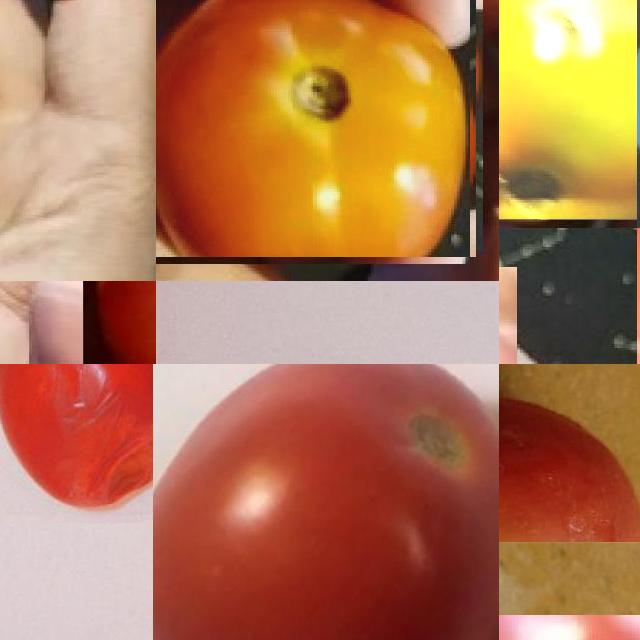0: (153, 364, 499, 640)
1: (0, 364, 153, 514)
Fresh Tomato: (156, 0, 476, 257), (499, 364, 640, 542)
Rotten Tomato: (499, 0, 637, 219)
